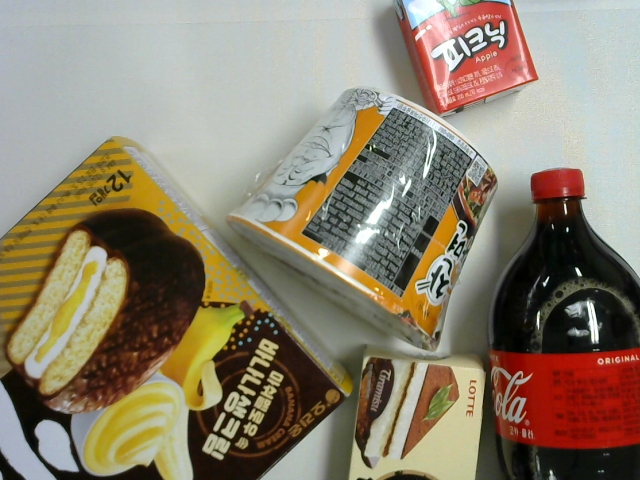Chicchok_Tiramisu: (348, 345, 488, 480)
Choco_Pie_Banana: (1, 136, 358, 478)
Coca_Cola_1.5L: (488, 167, 640, 479)
Hejangchan: (225, 86, 499, 356)
Picnic_Apple: (392, 1, 537, 118)
